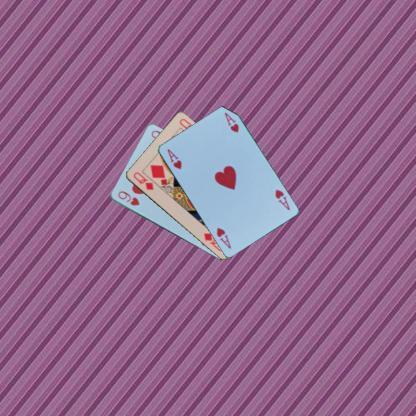9h: (115, 188, 141, 207)
Ah: (272, 186, 291, 212), (164, 146, 183, 170)
Qd: (130, 170, 155, 192)
